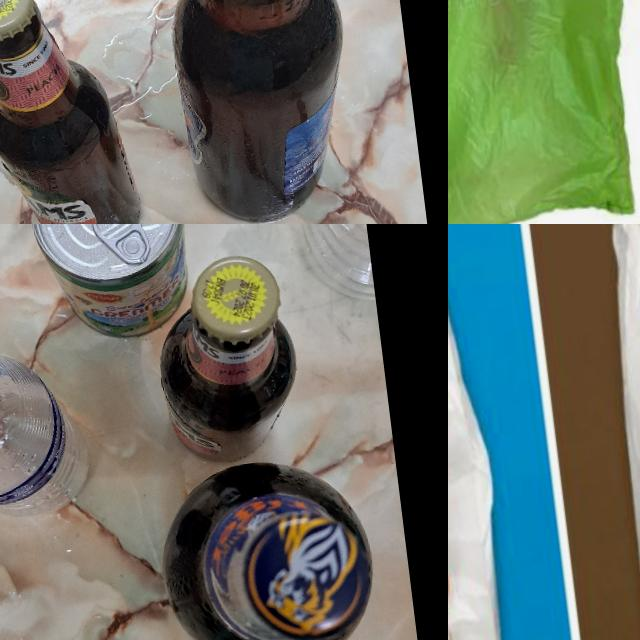aba de lata: (89, 224, 152, 270)
garrafa de vidro: (141, 0, 364, 224), (152, 448, 383, 640), (146, 249, 308, 471), (0, 0, 146, 224)
garrafa plástica: (0, 346, 94, 530), (273, 224, 375, 311)
lata: (23, 224, 196, 348)
sacola plástica: (448, 0, 640, 224), (448, 254, 534, 640), (584, 224, 640, 640)
